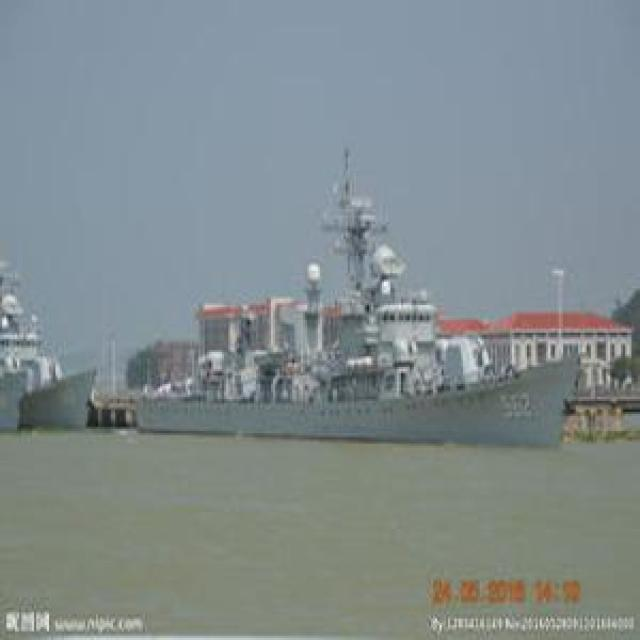navalvessels: (134, 180, 586, 456)
